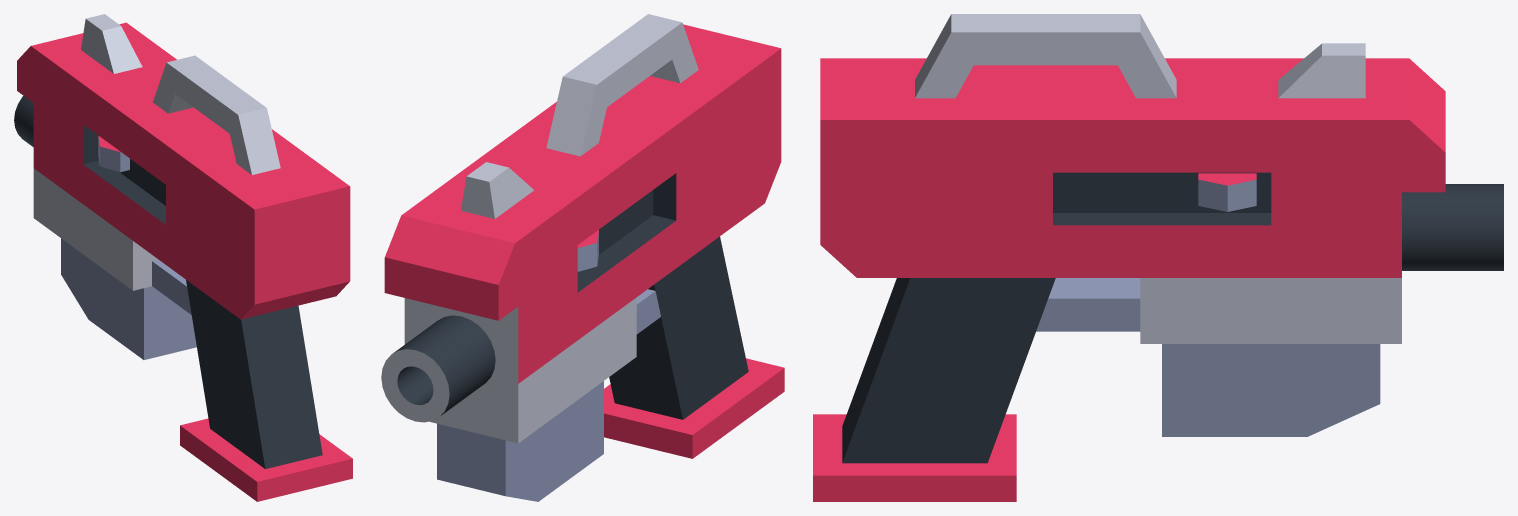
The model's file is blasterC.obj.
3 views of the same model, side by side, from view 1: azimuth 30°, elevation 25°; view 2: azimuth 150°, elevation 25°; view 3: azimuth 270°, elevation 25° (orthographic). The views are drawn at different scales.
Parts seen in each view (by area): view 1: blasterC; view 2: blasterC; view 3: blasterC.
Part boxes in pixels (x1,y1,x2,y2): blasterC: (14, 14, 352, 501); blasterC: (381, 14, 784, 501); blasterC: (813, 14, 1503, 501).
Bounding box in the file's own units: 0.1 × 0.34 × 0.475.
